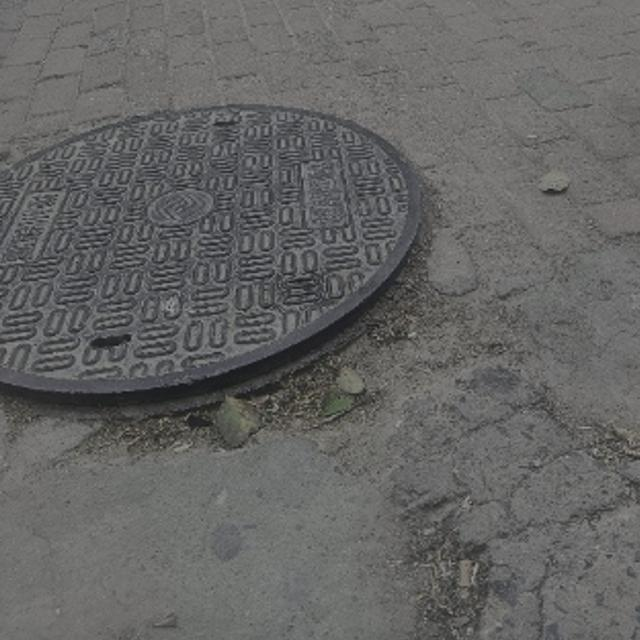good: (0, 102, 425, 420)
